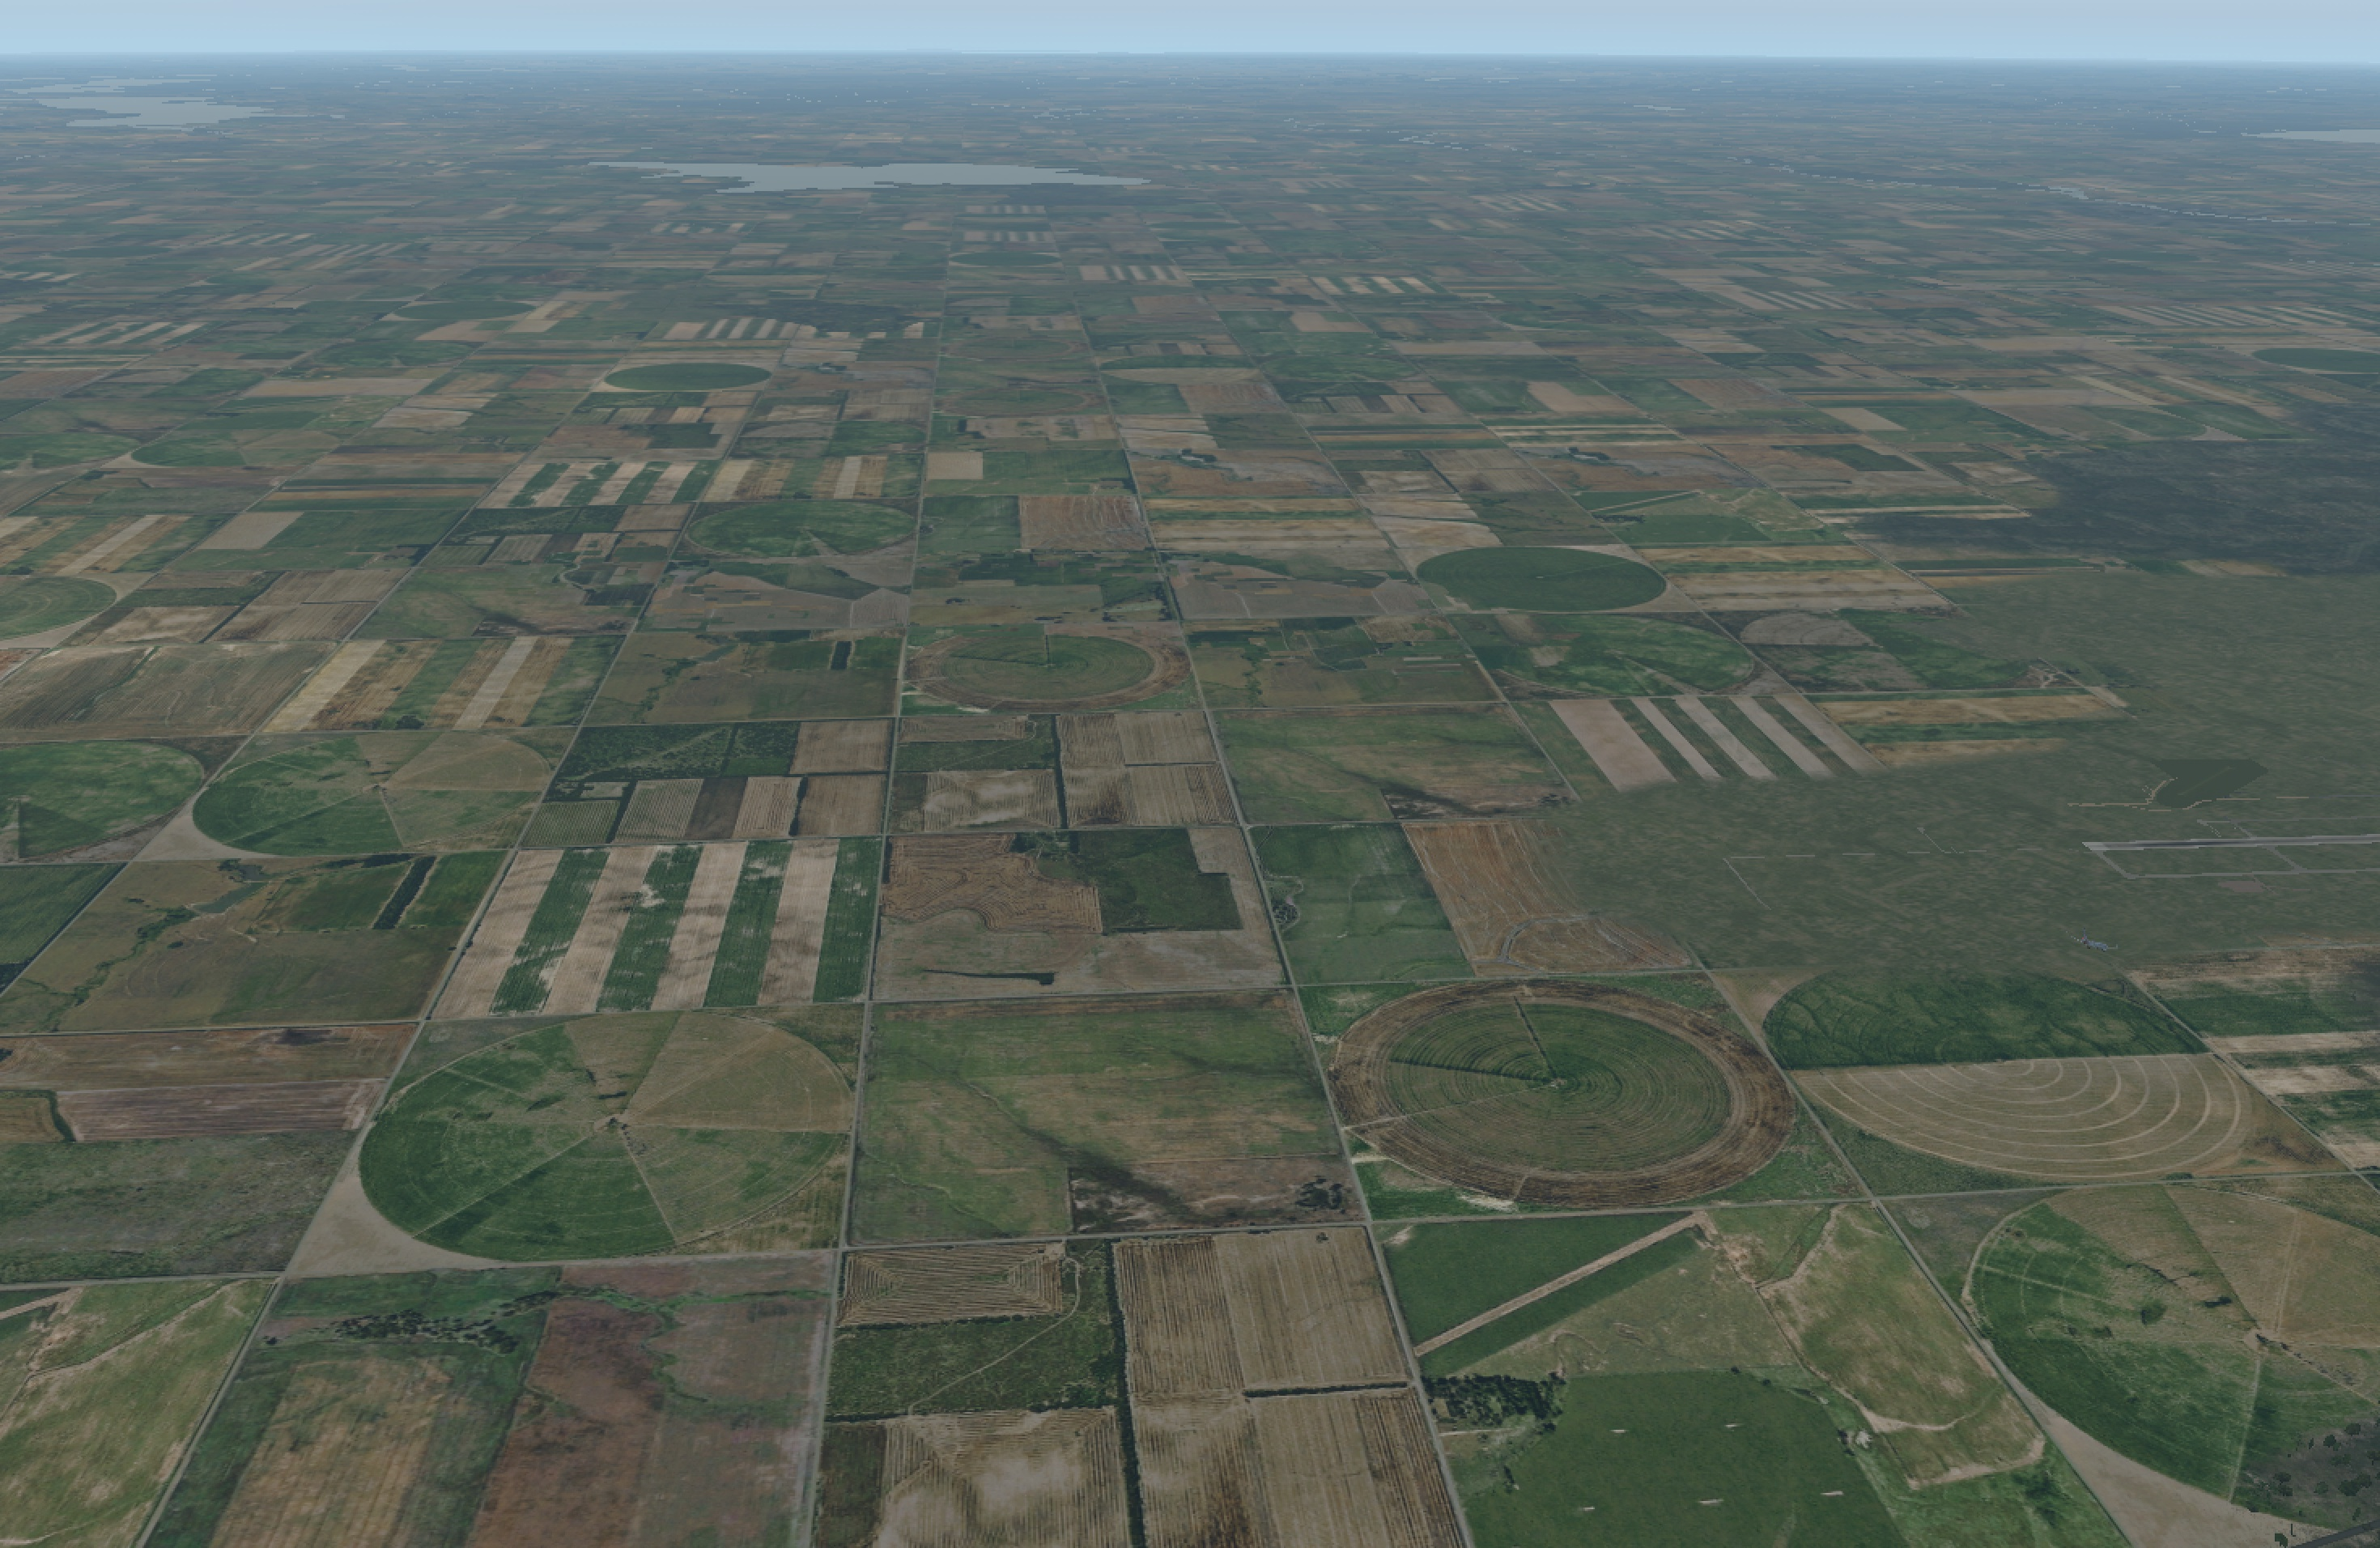aircraft: (2068, 935, 2122, 956)
